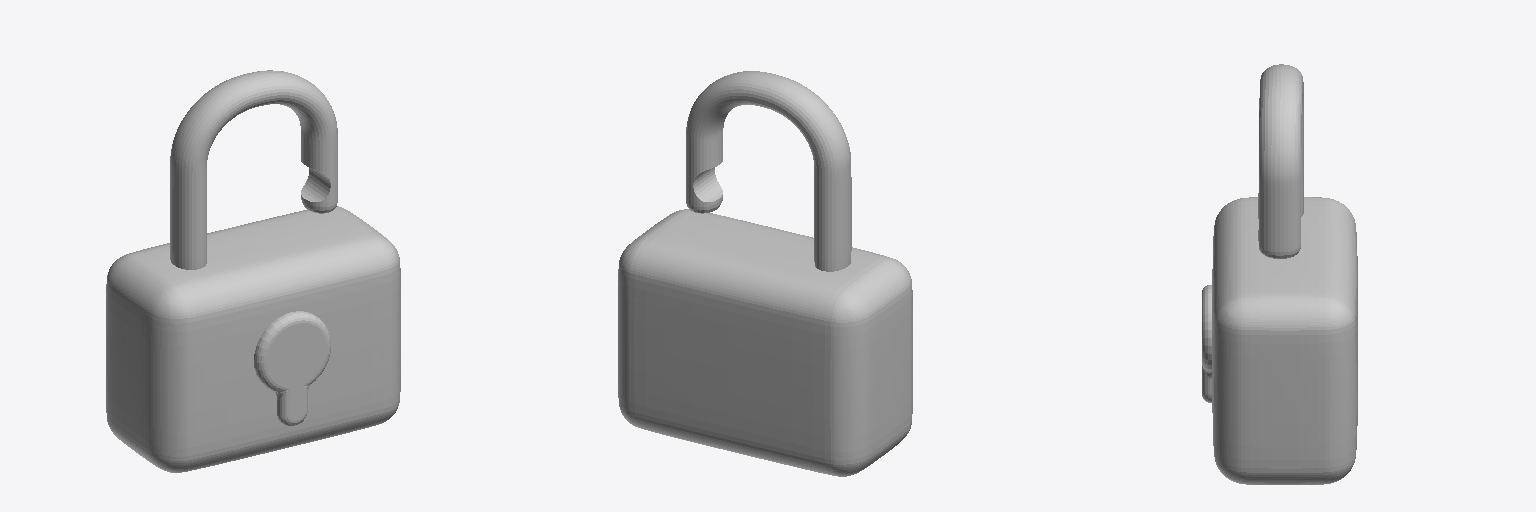
The model's file is padlock-unlock.obj.
3 renders of one model, left to right at view 1: azimuth 30°, elevation 25°; view 2: azimuth 150°, elevation 25°; view 3: azimuth 270°, elevation 25°, orthographic.
Parts seen in each view (by area): view 1: Cube, Vert, Cylinder; view 2: Cube, Vert; view 3: Cube, Vert, Cylinder.
Boxes of the visible parts, <box> form: Cube: <box>106,206,400,472</box>; Vert: <box>170,70,337,269</box>; Cylinder: <box>254,311,330,425</box>; Cube: <box>618,209,912,476</box>; Vert: <box>686,71,851,271</box>; Cube: <box>1212,197,1357,484</box>; Vert: <box>1258,64,1303,258</box>; Cylinder: <box>1202,285,1211,402</box>.
Bounding box in the file's own units: 1.54 × 2.12 × 0.8321.